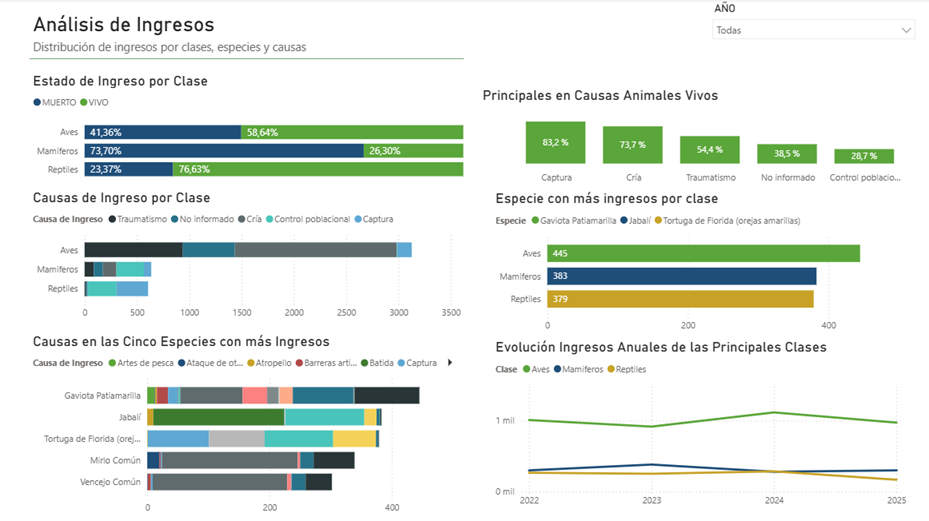

The dashboard page shown, as its layout file describes it:
{"tool":"powerbi","page":{"name":"Análisis de Ingresos","canvas":[1280,720],"ordinal":1},"visuals":[{"type":"barChart","title":"Causas de Ingreso por Clase","fields":{"Series":["fauna_2022_2025_clean.CAUSA INGRESO"],"Category":["fauna_2022_2025_clean.CLASE"],"Y":["fauna_2022_2025_clean.Ingresos"]},"box":[42.5,262.1,596.9,188],"z":0},{"type":"barChart","title":"Causas en las Cinco Especies con más Ingresos","fields":{"Series":["fauna_2022_2025_clean.CAUSA INGRESO"],"Category":["fauna_2022_2025_clean.ESPECIE"],"Y":["fauna_2022_2025_clean.Ingresos"]},"box":[42.5,459.7,596.9,258],"z":1000},{"type":"lineChart","title":"Evolución Ingresos Anuales de las Principales Clases","fields":{"Series":["fauna_2022_2025_clean.CLASE"],"Category":["fauna_2022_2025_clean.AÑO"],"Y":["fauna_2022_2025_clean.Ingresos"]},"box":[677.9,467.9,573.6,240.1],"z":2000},{"type":"slicer","fields":{"Values":["fauna_2022_2025_clean.AÑO"]},"box":[970.2,0,299.1,57.6],"z":3000},{"type":"barChart","title":"Especie con más ingresos por clase","fields":{"Series":["fauna_2022_2025_clean.ESPECIE"],"Category":["fauna_2022_2025_clean.CLASE"],"Y":["fauna_2022_2025_clean.Ingresos"]},"box":[677.9,263.5,573.6,204.5],"z":4000},{"type":"columnChart","title":"Principales en Causas Animales Vivos","fields":{"Y":["fauna_2022_2025_clean.% Vivos"],"Category":["fauna_2022_2025_clean.CAUSA INGRESO"]},"box":[660,122.1,620.2,140],"z":5000},{"type":"hundredPercentStackedBarChart","title":"Estado de Ingreso por Clase","fields":{"Y":["CountNonNull(fauna_2022_2025_clean.ESTADO INGRESO)"],"Series":["fauna_2022_2025_clean.ESTADO INGRESO"],"Category":["fauna_2022_2025_clean.CLASE"]},"box":[42.5,101.5,601,159.2],"z":6000},{"type":"textbox","title":"Análisis de Ingresos","box":[42.5,19.2,596.9,68.6],"z":7000}]}

Visuals, with their boxes in screenshot pixels (x1, y1, x2, y2), scaled from the page's 1280x720 canvas onto the 929x521 screenshot:
"Causas de Ingreso por Clase" barChart: box=[31, 190, 464, 326]
"Causas en las Cinco Especies con más Ingresos" barChart: box=[31, 333, 464, 519]
"Evolución Ingresos Anuales de las Principales Clases" lineChart: box=[492, 339, 908, 512]
slicer - fauna_2022_2025_clean.AÑO: box=[704, 0, 921, 42]
"Especie con más ingresos por clase" barChart: box=[492, 191, 908, 339]
"Principales en Causas Animales Vivos" columnChart: box=[479, 88, 928, 190]
"Estado de Ingreso por Clase" hundredPercentStackedBarChart: box=[31, 73, 467, 189]
"Análisis de Ingresos" textbox: box=[31, 14, 464, 64]
